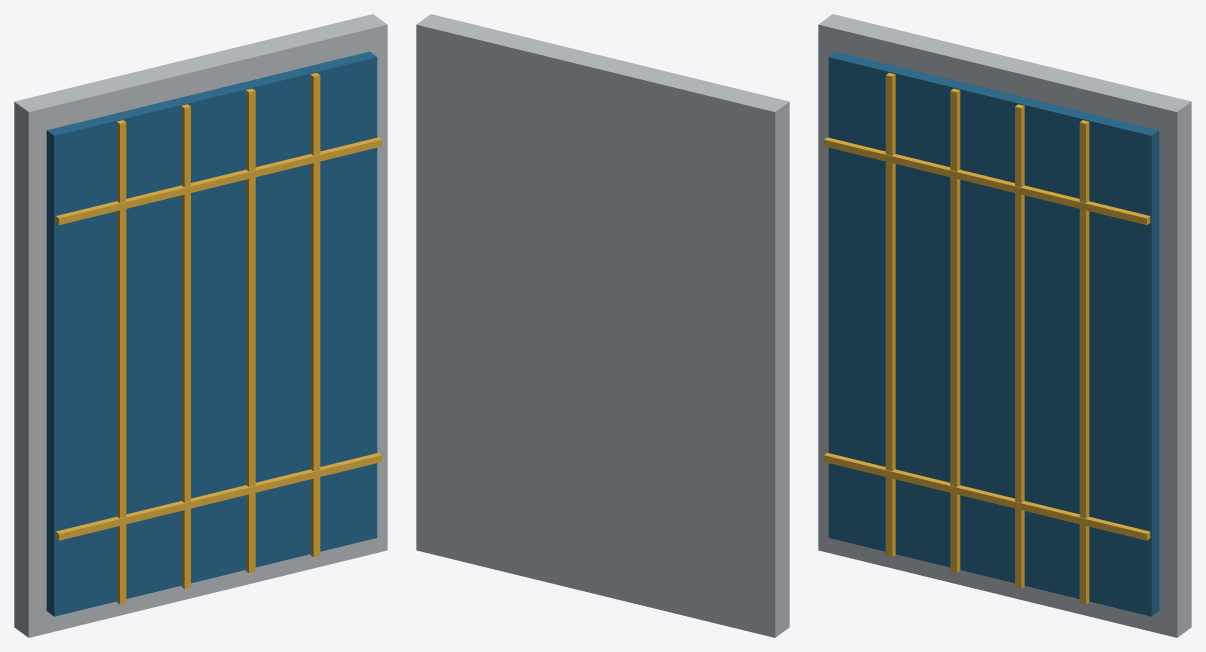
Rendered from perilune-shingle-panel.glb.
The picture shows the model from 3 angles, left to right: view 1: azimuth 30°, elevation 25°; view 2: azimuth 150°, elevation 25°; view 3: azimuth 330°, elevation 25°; orthographic projection.
Visible parts, largest first — view 1: SM_Power_Shingle_Cells, SM_Power_Shingle_Frame, SM_Power_Shingle_Column_04, SM_Power_Shingle_Column_01, SM_Power_Shingle_Column_03, SM_Power_Shingle_Column_02, SM_Power_Shingle_Row_02, SM_Power_Shingle_Row_01; view 2: SM_Power_Shingle_Frame; view 3: SM_Power_Shingle_Cells, SM_Power_Shingle_Frame, SM_Power_Shingle_Column_01, SM_Power_Shingle_Column_02, SM_Power_Shingle_Column_04, SM_Power_Shingle_Column_03, SM_Power_Shingle_Row_02, SM_Power_Shingle_Row_01.
Part boxes in pixels (bbox=[...]): SM_Power_Shingle_Cells: bbox=[46, 51, 377, 616]; SM_Power_Shingle_Frame: bbox=[14, 14, 387, 637]; SM_Power_Shingle_Column_04: bbox=[310, 72, 320, 557]; SM_Power_Shingle_Column_01: bbox=[116, 120, 126, 604]; SM_Power_Shingle_Column_03: bbox=[245, 88, 255, 572]; SM_Power_Shingle_Column_02: bbox=[181, 104, 190, 588]; SM_Power_Shingle_Row_02: bbox=[55, 137, 381, 225]; SM_Power_Shingle_Row_01: bbox=[55, 453, 381, 540]; SM_Power_Shingle_Frame: bbox=[416, 14, 789, 637]; SM_Power_Shingle_Cells: bbox=[828, 51, 1159, 616]; SM_Power_Shingle_Frame: bbox=[818, 14, 1191, 637]; SM_Power_Shingle_Column_01: bbox=[885, 72, 895, 557]; SM_Power_Shingle_Column_02: bbox=[950, 88, 960, 572]; SM_Power_Shingle_Column_04: bbox=[1079, 120, 1089, 604]; SM_Power_Shingle_Column_03: bbox=[1015, 104, 1024, 588]; SM_Power_Shingle_Row_02: bbox=[824, 137, 1150, 225]; SM_Power_Shingle_Row_01: bbox=[824, 453, 1150, 540].
Bounding box in the file's own units: 0.5 × 0.7 × 0.0645.
